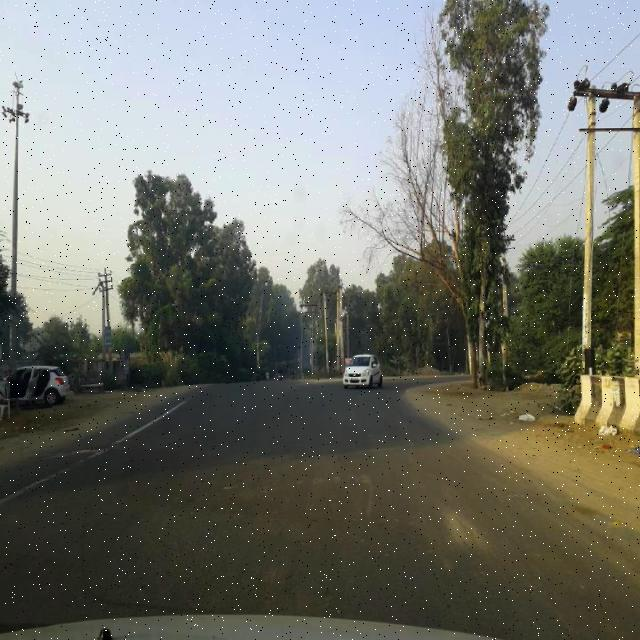D44: (3, 416, 151, 602)
